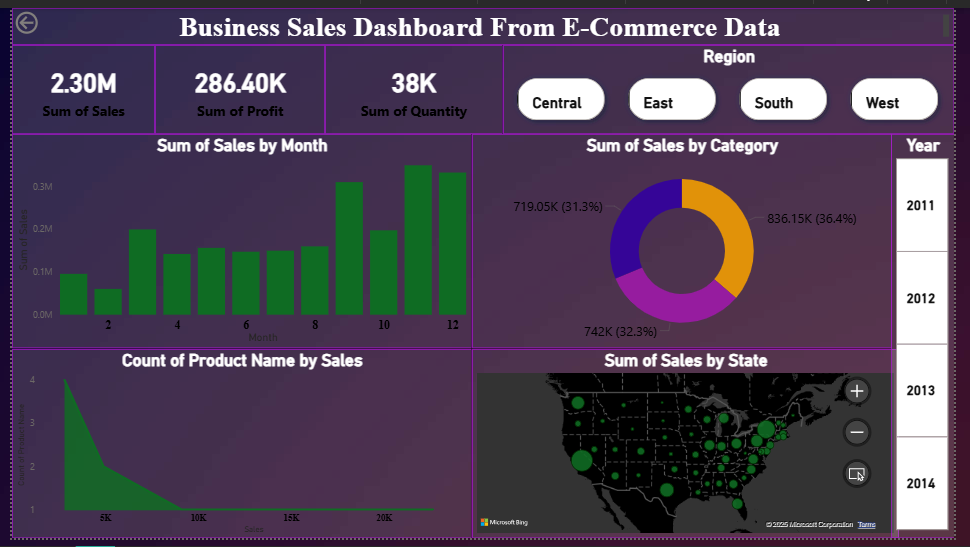

The page's visual inventory and layout, read from the dashboard file:
{"tool":"powerbi","page":{"name":"Page 1","canvas":[1280,720],"ordinal":0},"visuals":[{"type":"columnChart","fields":{"Category":["Orders.Month"],"Y":["Sum(Orders.Sales)"]},"box":[0,171.4,624.3,291.4],"z":0},{"type":"areaChart","fields":{"Category":["Orders.Sales"],"Y":["CountNonNull(Orders.Product Name)"]},"box":[0,462.9,624.3,257.1],"z":1000},{"type":"donutChart","fields":{"Category":["Orders.Category"],"Y":["Sum(Orders.Sales)"]},"box":[624.3,171.4,570,291.4],"z":2000},{"type":"map","fields":{"Category":["Orders.State"],"Size":["Sum(Orders.Sales)"]},"box":[624.3,462.9,580,257.1],"z":3000},{"type":"actionButton","box":[0,0,100,40],"z":4000},{"type":"card","fields":{"Values":["Sum(Orders.Sales)"]},"box":[0,50,194.3,121.4],"z":5000},{"type":"card","fields":{"Values":["Sum(Orders.Profit)"]},"box":[194.3,50,231.4,121.4],"z":6000},{"type":"card","fields":{"Values":["Sum(Orders.Quantity)"]},"box":[425.7,50,241.4,121.4],"z":7000},{"type":"advancedSlicerVisual","fields":{"Values":["Orders.Year"]},"box":[1194.3,171.4,85.7,548.6],"z":8000},{"type":"advancedSlicerVisual","fields":{"Values":["Orders.Region"]},"box":[667.1,50,612.9,121.4],"z":9000},{"type":"textbox","box":[0,0,1280,50],"z":10000}]}

Visuals, with their boxes in screenshot pixels (x1, y1, x2, y2), scaled from the page's 1280x720 canvas onto the 970x547 screenshot:
columnChart - Orders.Month x Sum(Orders.Sales): 0,130,473,352
areaChart - Orders.Sales x CountNonNull(Orders.Product Name): 0,352,473,546
donutChart - Orders.Category x Sum(Orders.Sales): 473,130,905,352
map - Orders.State x Sum(Orders.Sales): 473,352,913,546
actionButton: 0,0,76,30
card - Sum(Orders.Sales): 0,38,147,130
card - Sum(Orders.Profit): 147,38,323,130
card - Sum(Orders.Quantity): 323,38,506,130
advancedSlicerVisual - Orders.Year: 905,130,969,546
advancedSlicerVisual - Orders.Region: 506,38,969,130
textbox: 0,0,969,38
